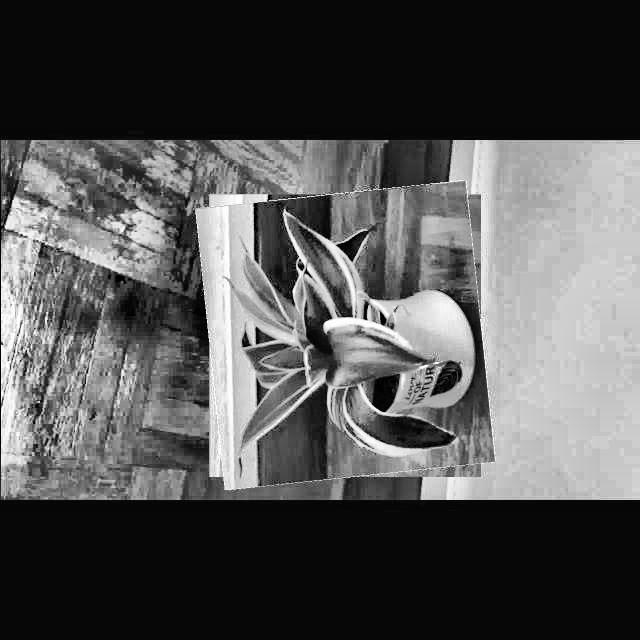plants: (202, 187, 488, 484)
